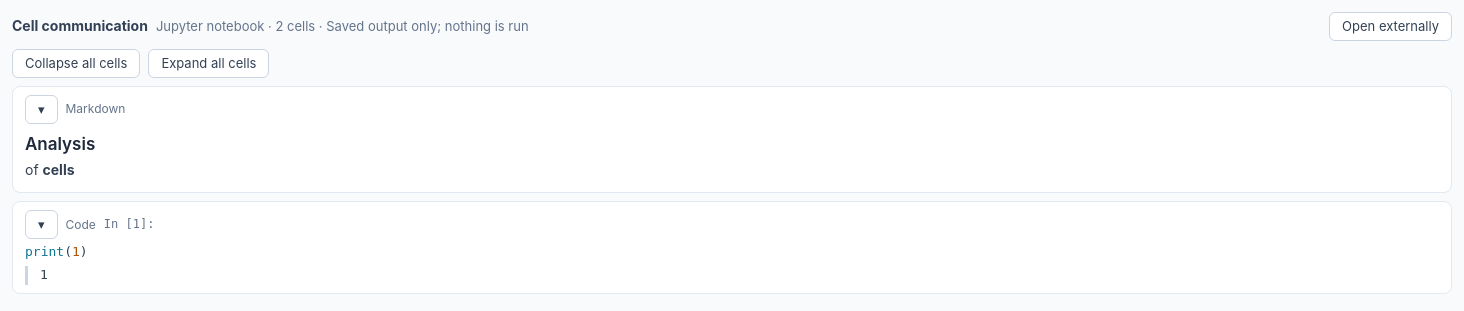
Test: the notebook viewer (issue #104) › folds and unfolds one cell, and all of them
Click the button "▾" next to "Code" at (41, 225), box [25, 210, 58, 239]
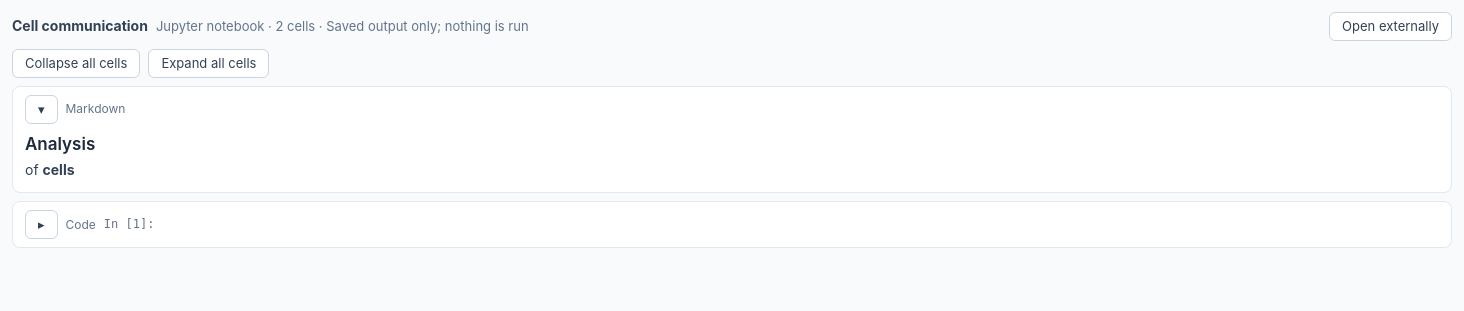
Result: no elements with class "cell__source" are shown
Result: the button "▸" is collapsed
Click the button "▸" at (41, 225), box [25, 210, 58, 239]
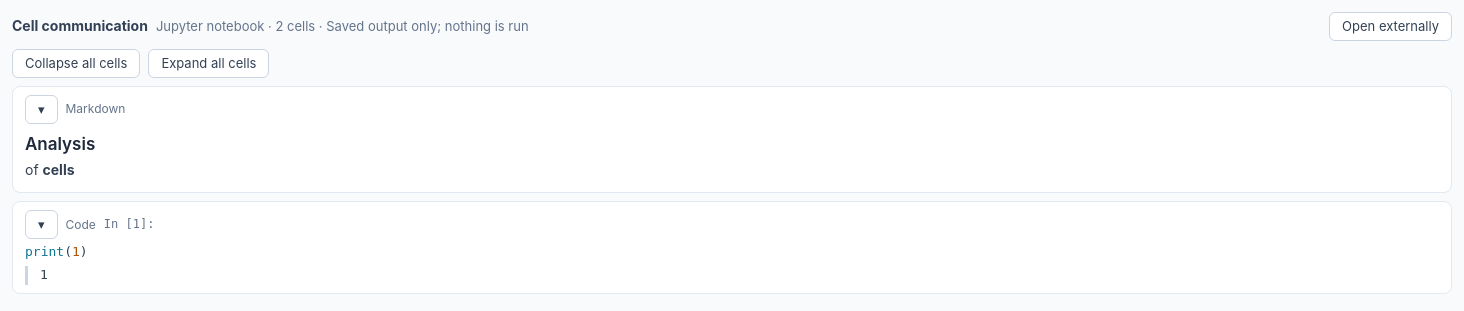
Result: the number of elements with class "cell__source" is 1 at [25, 244, 88, 259]
Click the button "Collapse all cells" at (76, 63), box [12, 49, 140, 78]
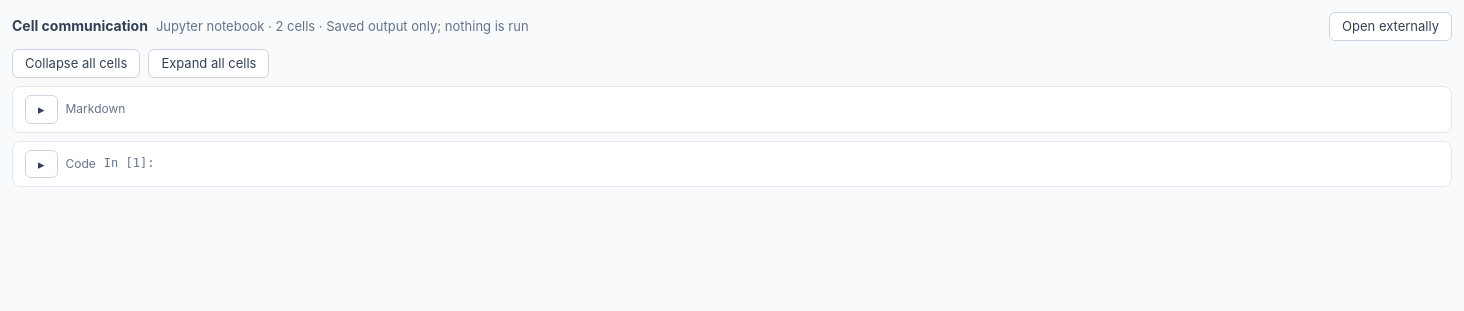
Click the button "Expand all cells" at (209, 63), box [148, 49, 269, 78]
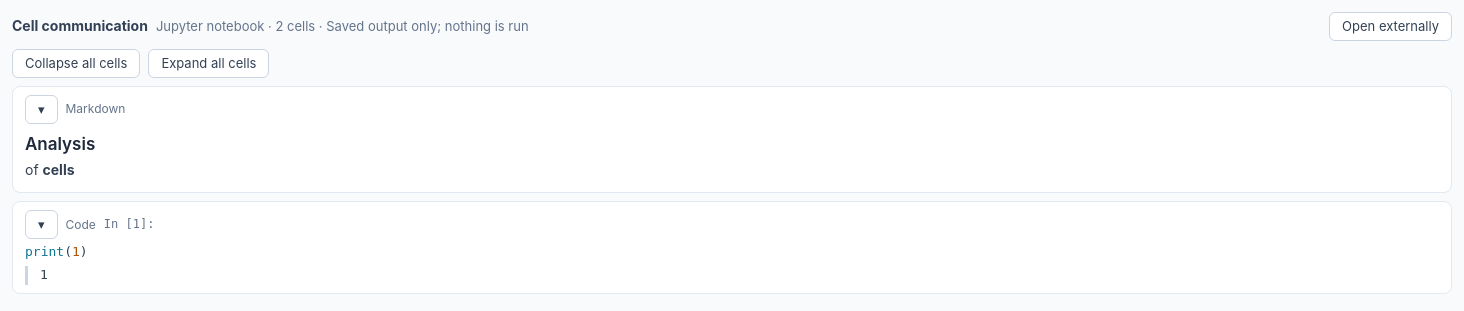
Result: the number of elements with class "cell__source" is 1 at [25, 244, 88, 259]
